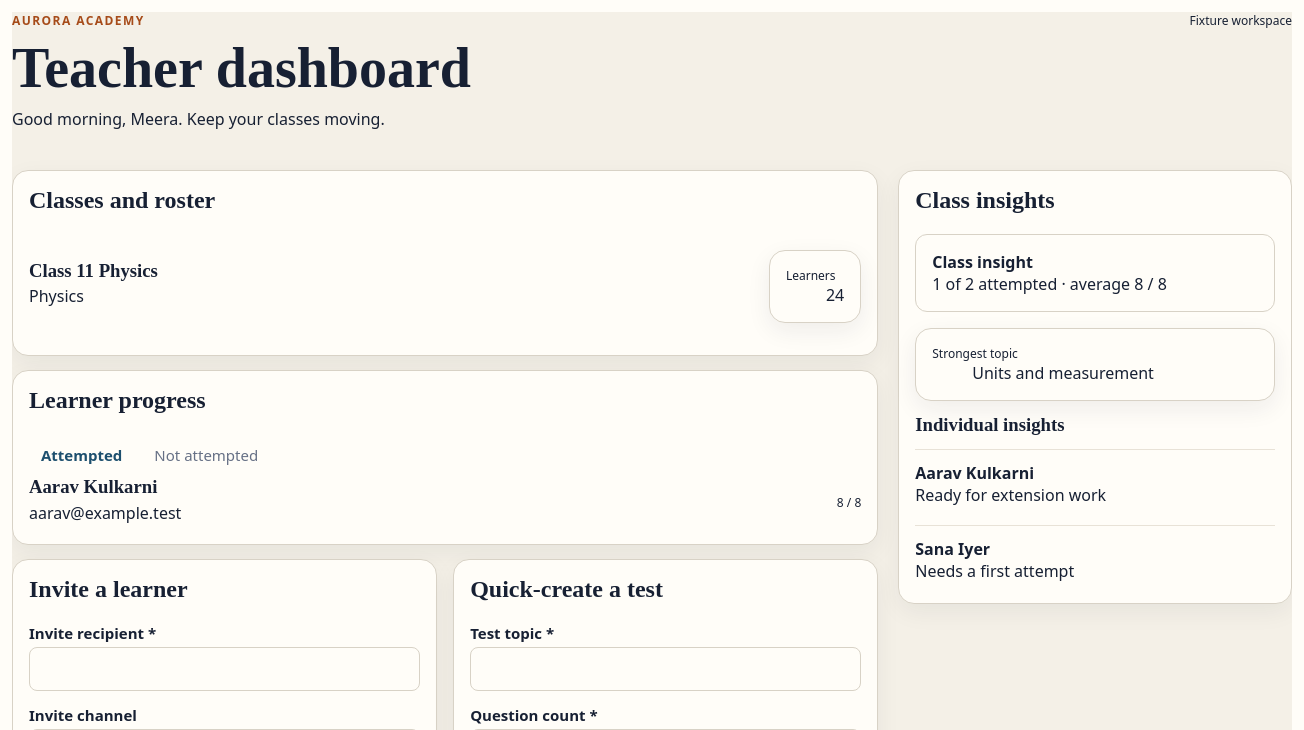
Test: TeacherDashboard › switches between attempted and not-attempted roster tabs
Click the tab "Not attempted" at (206, 455), box [142,433,270,477]
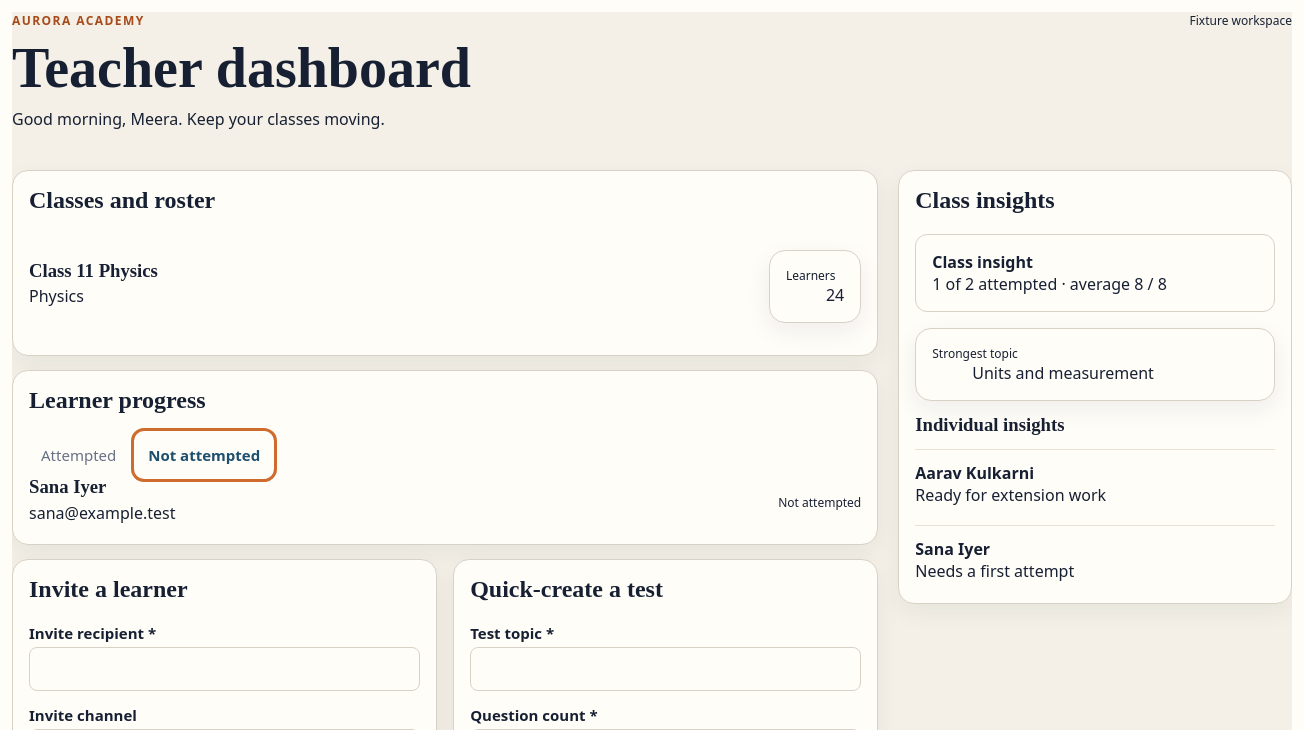
Now the element "Sana Iyer" is shown, box [29,477,861,528]
Click the tab "Attempted" at (79, 455), box [29,433,128,477]
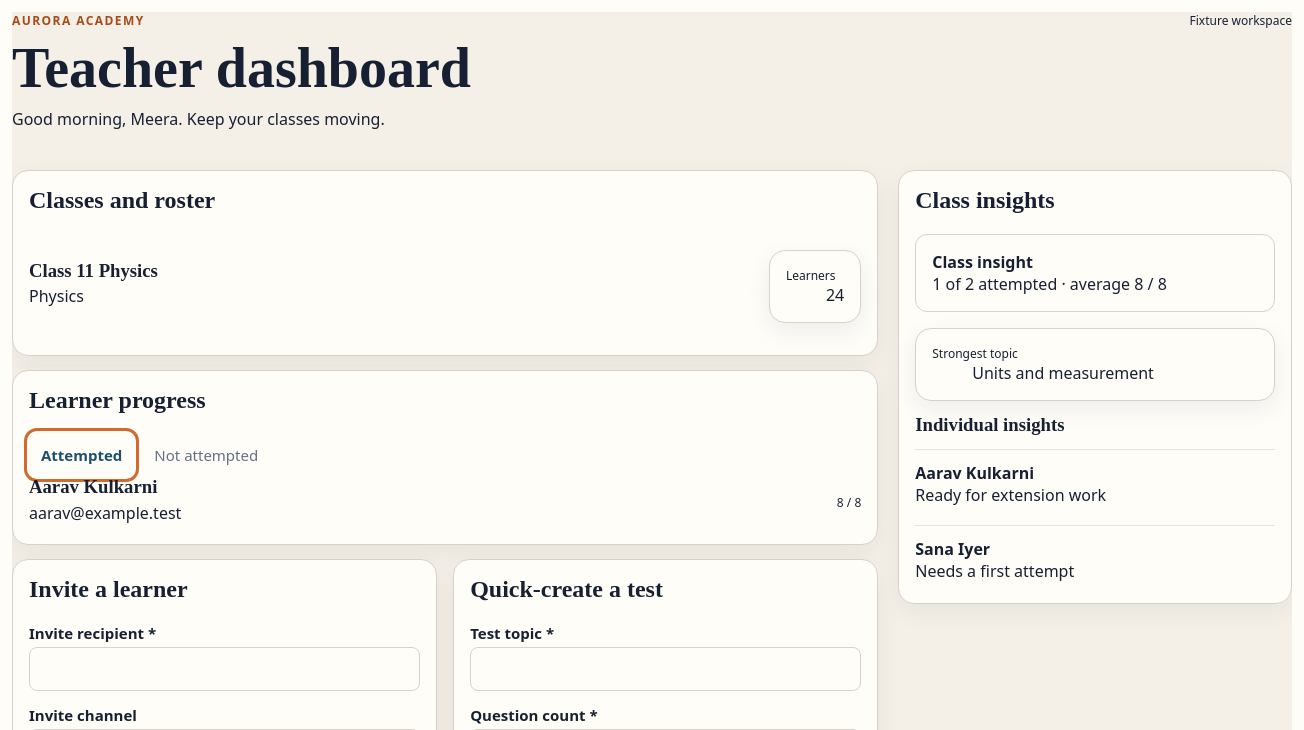
Now the element "Aarav Kulkarni" is shown, box [29,477,861,528]
